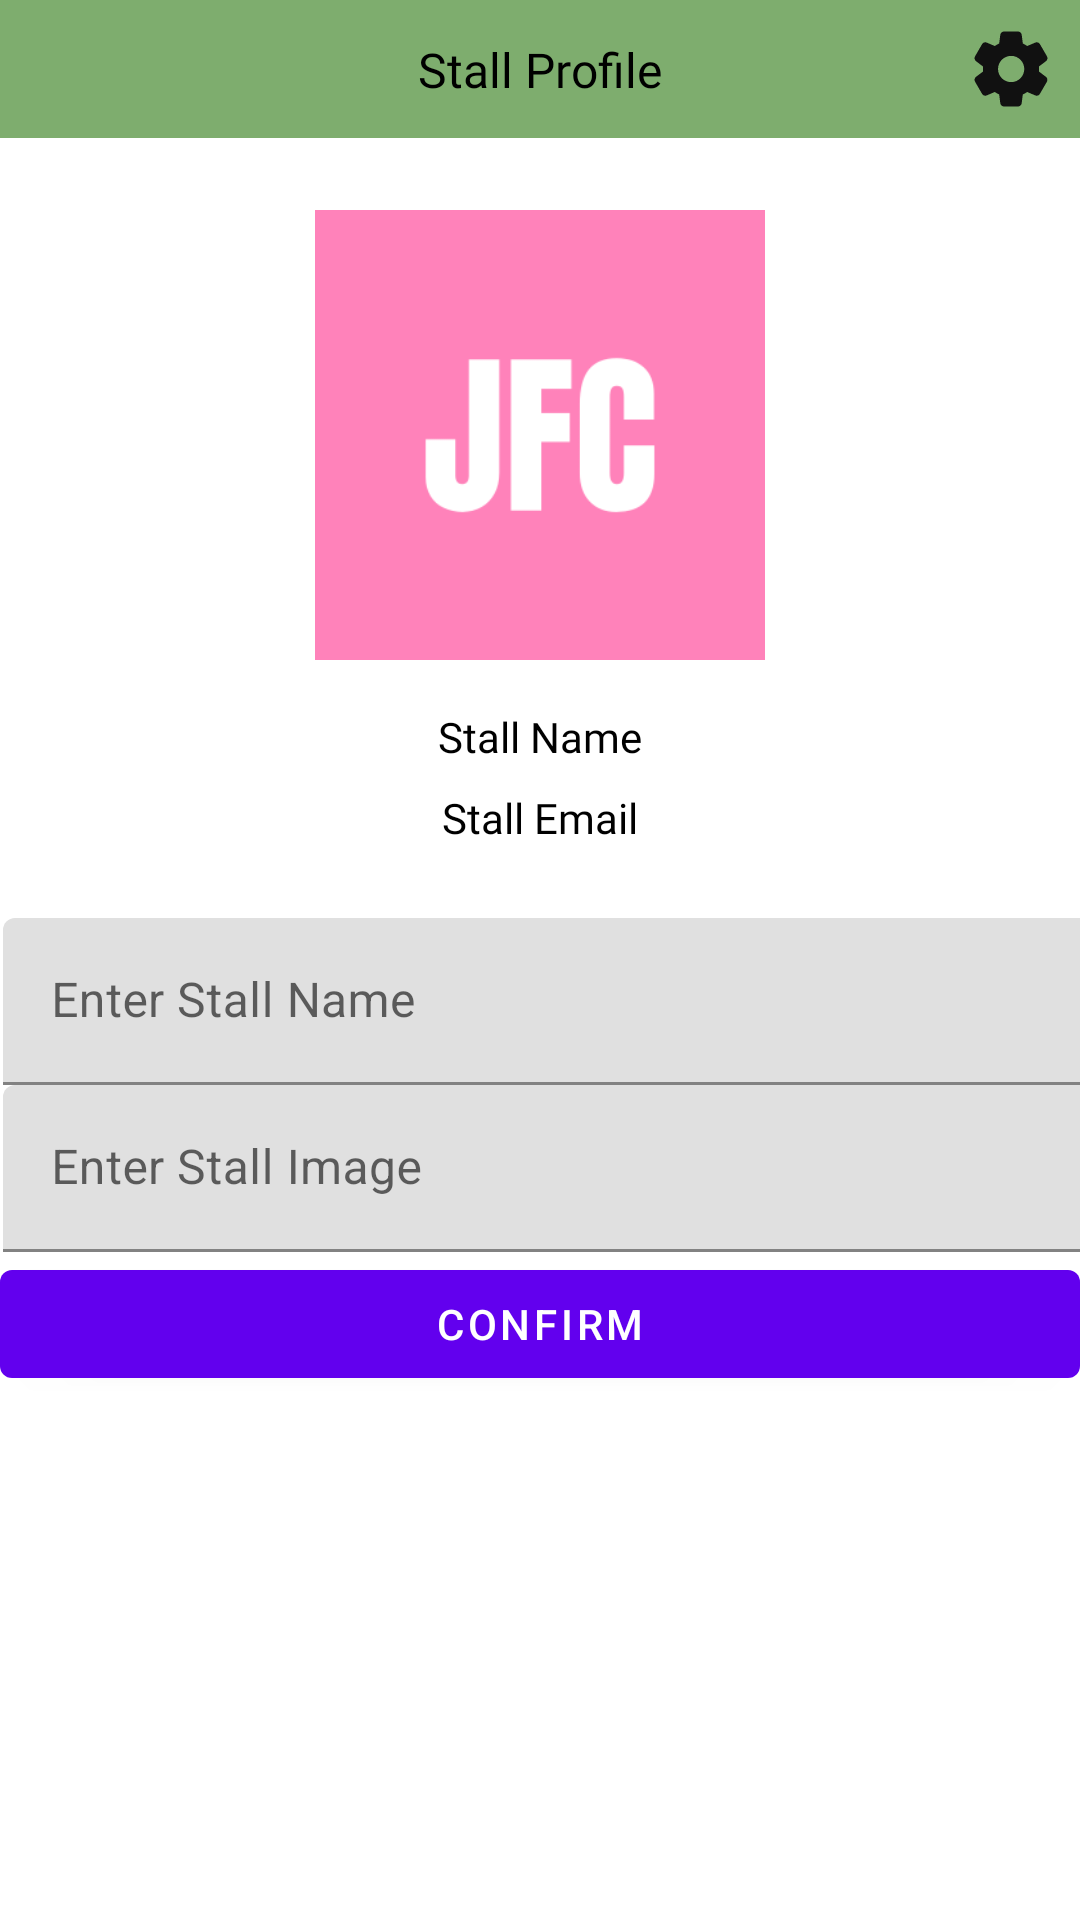

Screen size 1080w x 1920h. Icon name, then its box in pixels as (x1, y1, x2, y2):
settings: (974, 31, 1048, 107)
